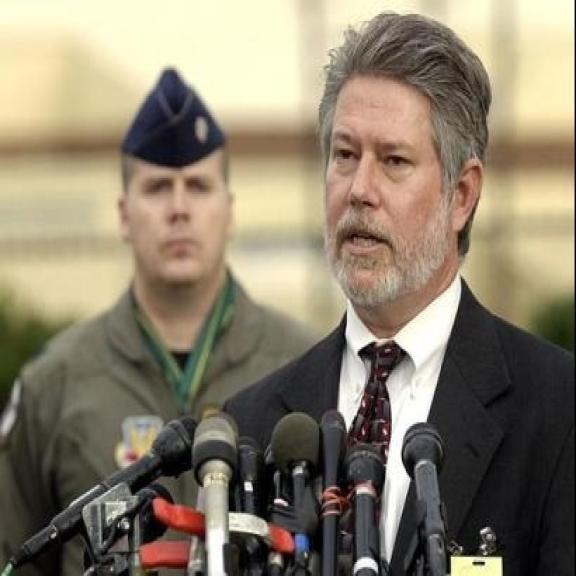face: (318, 16, 487, 310), (116, 133, 242, 295)
